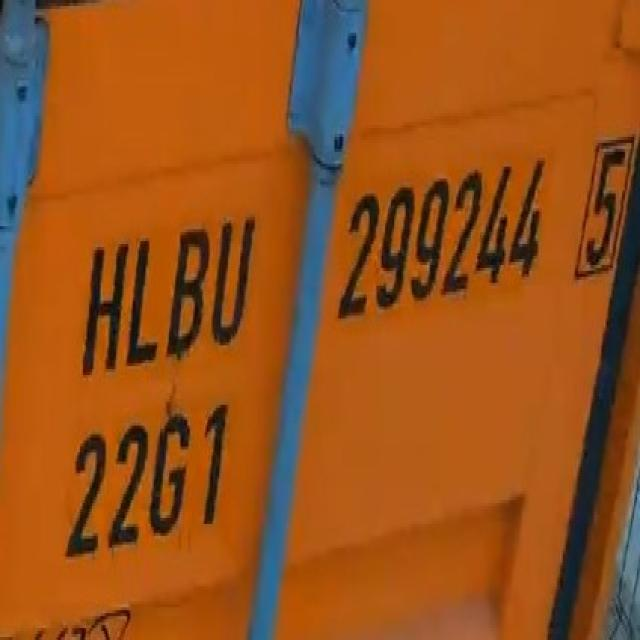dv: (576, 121, 630, 288)
owner: (78, 207, 255, 371)
serial: (330, 132, 548, 356)
size: (59, 390, 231, 560)
